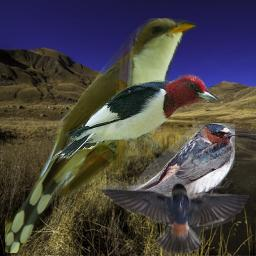Cuckoo: (5, 18, 196, 253)
Swallow: (95, 180, 250, 255), (127, 123, 235, 209)
Woodpecker: (48, 67, 224, 169)
